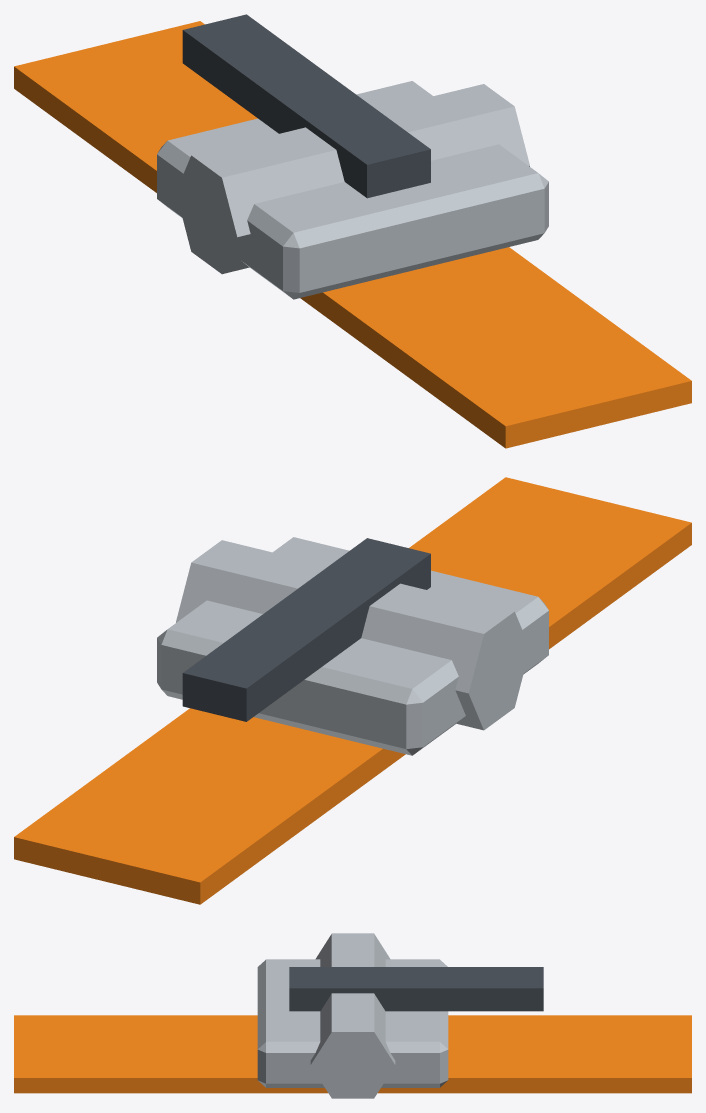
Rendered from PRP_Strap.fbx.
3 views of the same model, one above another, from view 1: azimuth 30°, elevation 25°; view 2: azimuth 150°, elevation 25°; view 3: azimuth 270°, elevation 25° (orthographic). The views are drawn at different scales.
Visible parts, largest first — view 1: PRP_Strap; view 2: PRP_Strap; view 3: PRP_Strap.
Boxes of the visible parts, x1=… form: PRP_Strap: x1=14, y1=14, x2=691, y2=448; PRP_Strap: x1=14, y1=477, x2=691, y2=904; PRP_Strap: x1=14, y1=933, x2=691, y2=1098.
Bounding box in the file's own units: 0.55 × 0.22 × 1.6.
